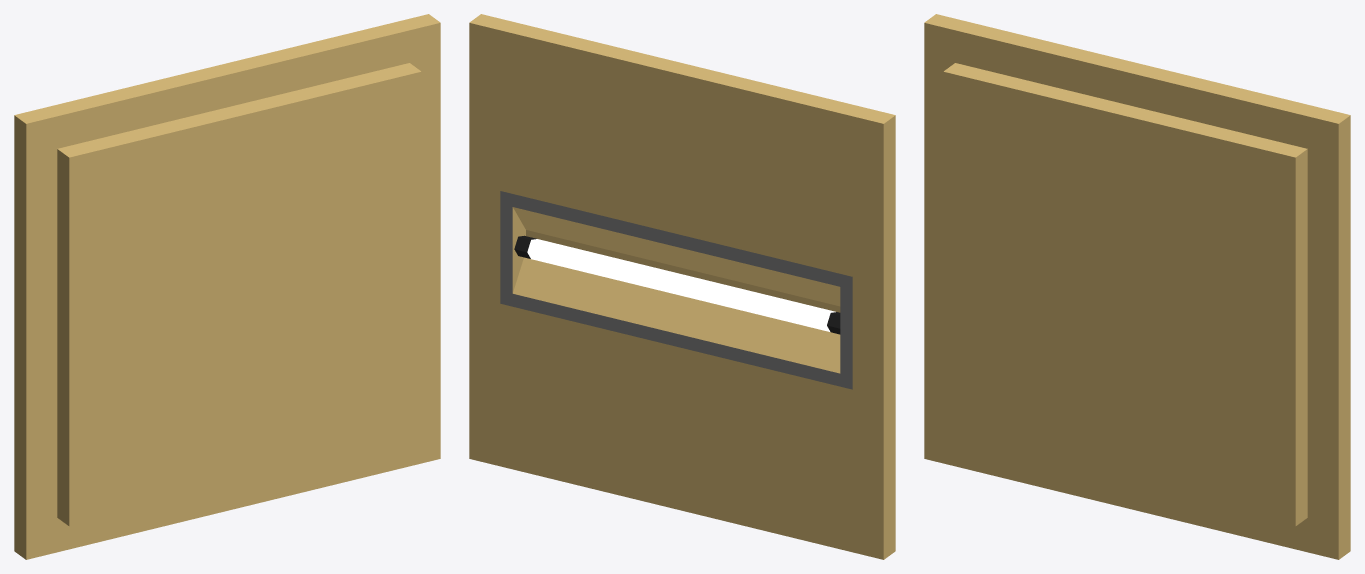
Rendered from Industrial_New_Wall_Panel_Light_Mid.fbx.
3 views of the same model, side by side, from view 1: azimuth 30°, elevation 25°; view 2: azimuth 150°, elevation 25°; view 3: azimuth 330°, elevation 25° (orthographic).
Visible parts, largest first — view 1: Cube.006; view 2: Cube.006; view 3: Cube.006.
Boxes of the visible parts, bbox=[...] form: Cube.006: bbox=[14, 14, 440, 559]; Cube.006: bbox=[469, 14, 895, 559]; Cube.006: bbox=[924, 14, 1350, 559].
Bounding box in the file's own units: 200 × 201 × 20.
